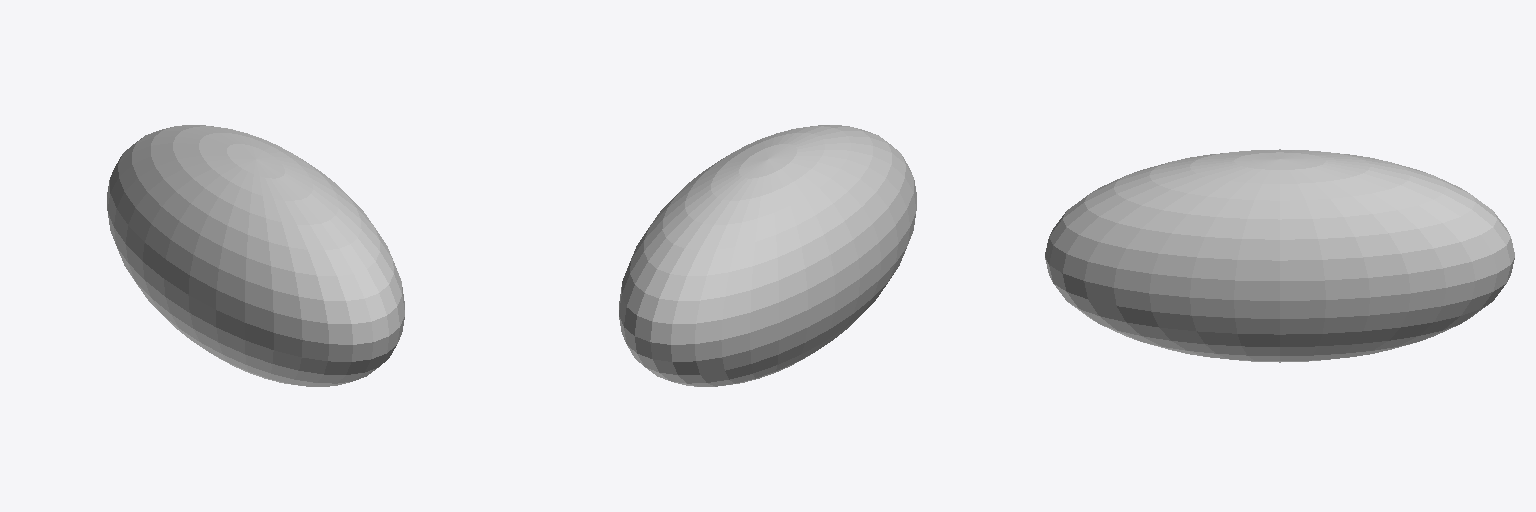
Rendered from car.obj.
3 renders of one model, left to right at view 1: azimuth 30°, elevation 25°; view 2: azimuth 150°, elevation 25°; view 3: azimuth 270°, elevation 25°, orthographic.
Visible parts, largest first — view 1: 球; view 2: 球; view 3: 球.
Boxes of the visible parts, x1=… form: 球: x1=107, y1=125, x2=404, y2=386; 球: x1=619, y1=125, x2=916, y2=386; 球: x1=1045, y1=149, x2=1514, y2=362.
Size of the model in its own units: 2 by 2 by 4.42.